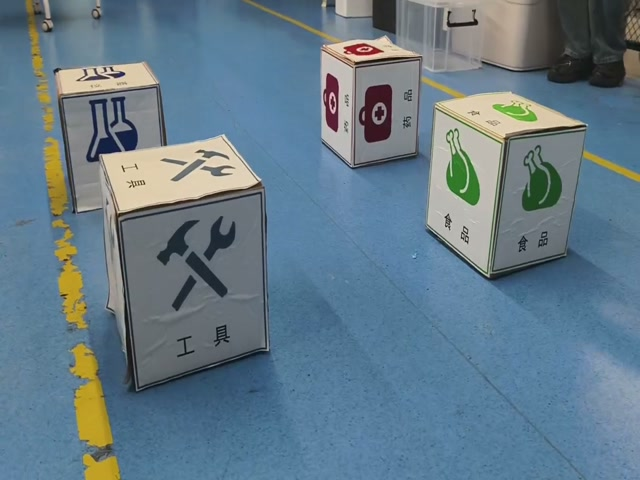Cube_food: (435, 90, 590, 141)
Cube_ins: (53, 58, 161, 99)
Cube_medicine: (321, 38, 417, 70)
Cube_tool: (97, 132, 259, 217)
